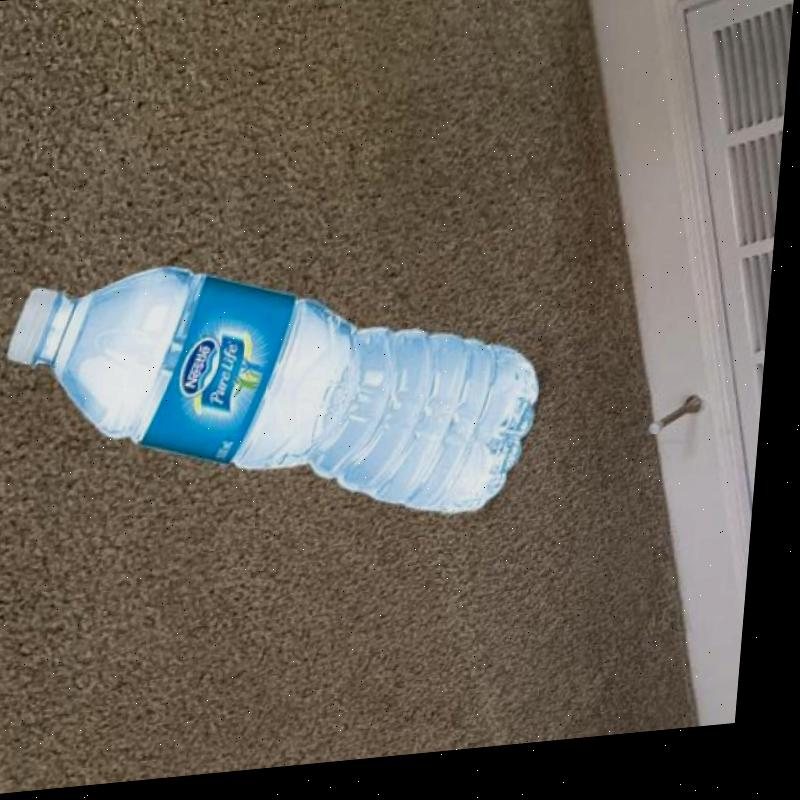botella: (0, 240, 566, 563)
